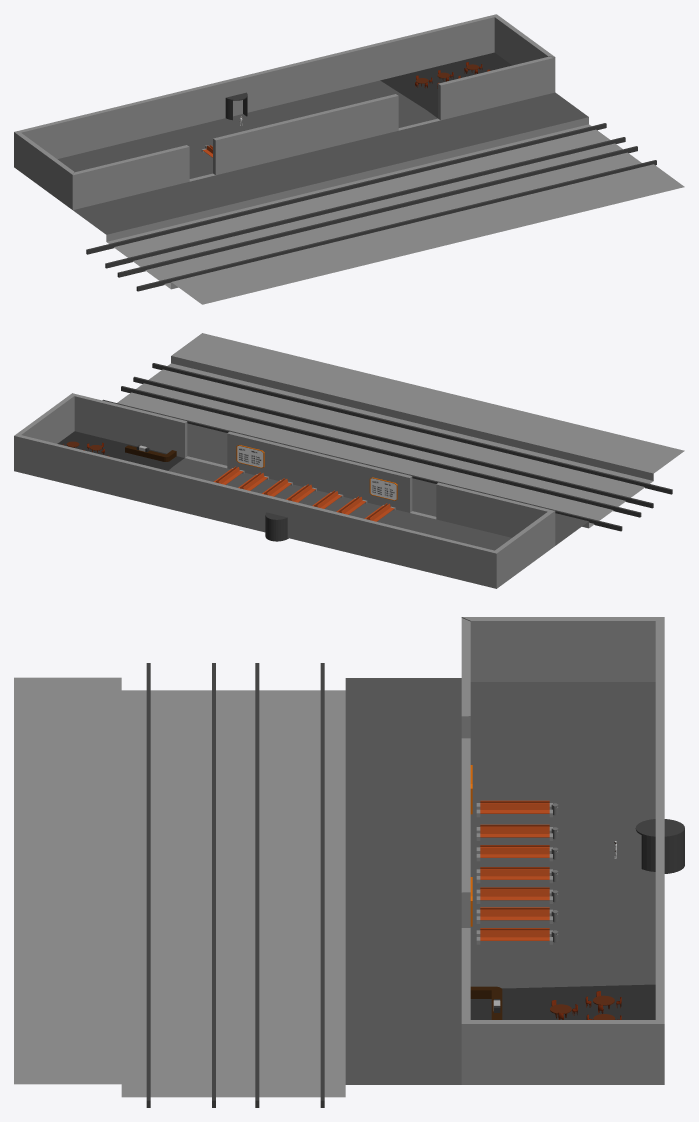
The model's file is trainstationlevel4.fbx.
The picture shows the model from 3 angles, top to bottom: view 1: azimuth 30°, elevation 25°; view 2: azimuth 150°, elevation 25°; view 3: azimuth 270°, elevation 25°; orthographic projection. The views are drawn at different scales.
Parts seen in each view (by area): view 1: trainstation, Rail.001, Rail.002, Rail.003, Rail; view 2: trainstation, Rail, Rail.001, Rail.002, Rail.003, Enterance, Cube.001, Cube, Coffeebar; view 3: trainstation, Rail, Rail.002, Rail.003, Enterance, Rail.001, Bench.003, Bench.006, Bench.012, Bench.014, Bench.001, Bench.008 (+1 smaller).
Boxes of the visible parts, <box> form: trainstation: <box>14,14,684,304</box>; Rail.001: <box>117,146,637,277</box>; Rail.002: <box>105,137,625,268</box>; Rail.003: <box>86,123,606,254</box>; Rail: <box>136,160,656,291</box>; trainstation: <box>14,333,684,588</box>; Rail: <box>152,363,672,494</box>; Rail.001: <box>133,376,653,508</box>; Rail.002: <box>121,386,641,517</box>; Rail.003: <box>102,399,622,531</box>; Enterance: <box>265,512,288,541</box>; Cube.001: <box>236,445,264,468</box>; Cube: <box>369,477,397,500</box>; Coffeebar: <box>125,445,176,461</box>; trainstation: <box>14,617,664,1097</box>; Rail: <box>146,663,150,1107</box>; Rail.002: <box>255,663,259,1107</box>; Rail.003: <box>320,663,324,1107</box>; Enterance: <box>635,819,684,873</box>; Rail.001: <box>212,663,215,1107</box>; Bench.003: <box>476,909,552,923</box>; Bench.006: <box>476,889,552,903</box>; Bench.012: <box>476,826,552,840</box>; Bench.014: <box>476,803,552,817</box>; Bench.001: <box>476,930,552,944</box>; Bench.008: <box>476,869,552,883</box>.
Size of the model in its own units: 9450 by 758 by 6123.
